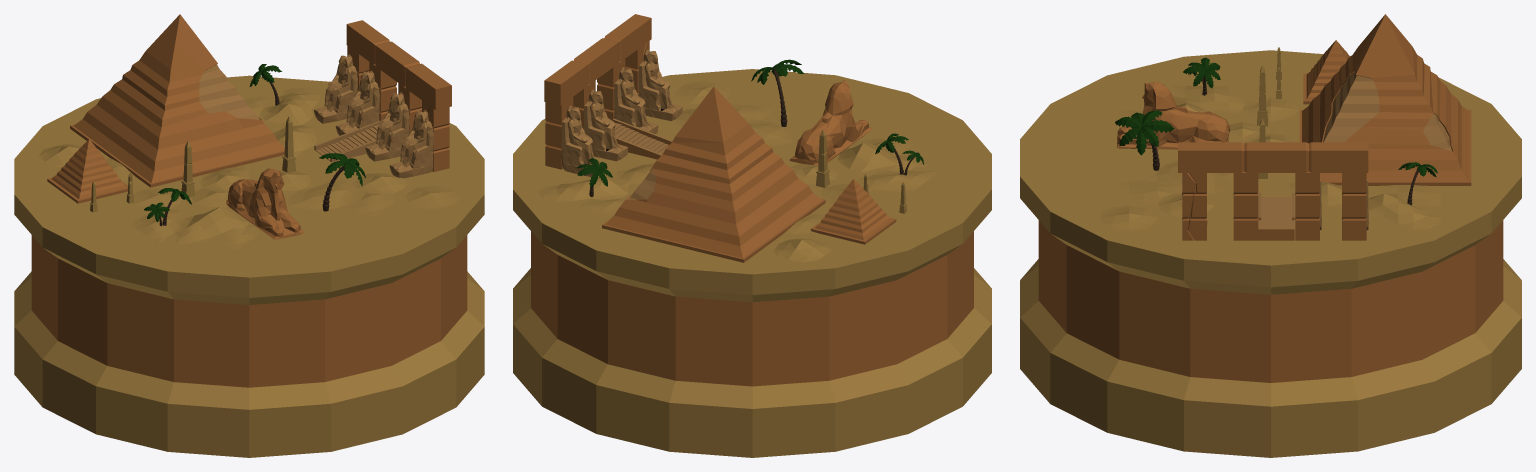
Rendered from Egypt.fbx.
3 renders of one model, left to right at view 1: azimuth 30°, elevation 25°; view 2: azimuth 150°, elevation 25°; view 3: azimuth 270°, elevation 25°, orthographic. The views are drawn at different scales.
Visible parts, largest first — view 1: Egypt=base=, Big_pyramid, Statue, Sphinx, Small_pyramid, Stair, Broken_arch_pillar, Tree_big, Broken_pillar; view 2: Egypt=base=, Big_pyramid, Statue, Sphinx, Small_pyramid, Stair, Tree_big, Broken_pillar, Broken_arch_pillar; view 3: Egypt=base=, Big_pyramid, Sphinx, Broken_arch_pillar, Stair, Tree_big, Small_pyramid.
Part boxes in pixels (left/top/right/bottom): Egypt=base=: left=14, top=20, right=484, bottom=457; Big_pyramid: left=70, top=14, right=284, bottom=187; Statue: left=335, top=70, right=433, bottom=178; Sphinx: left=226, top=168, right=304, bottom=239; Small_pyramid: left=47, top=139, right=127, bottom=203; Stair: left=314, top=120, right=380, bottom=162; Broken_arch_pillar: left=422, top=100, right=449, bottom=171; Tree_big: left=319, top=153, right=365, bottom=211; Broken_pillar: left=181, top=141, right=195, bottom=197; Egypt=base=: left=513, top=14, right=991, bottom=457; Big_pyramid: left=602, top=86, right=825, bottom=262; Statue: left=584, top=49, right=682, bottom=161; Sphinx: left=789, top=80, right=872, bottom=165; Small_pyramid: left=810, top=178, right=896, bottom=244; Stair: left=612, top=118, right=672, bottom=159; Tree_big: left=751, top=59, right=804, bottom=126; Broken_pillar: left=815, top=129, right=829, bottom=187; Broken_arch_pillar: left=625, top=41, right=649, bottom=95; Egypt=base=: left=1020, top=47, right=1521, bottom=457; Big_pyramid: left=1299, top=14, right=1471, bottom=185; Sphinx: left=1117, top=81, right=1230, bottom=149; Broken_arch_pillar: left=1182, top=173, right=1206, bottom=240; Stair: left=1258, top=192, right=1294, bottom=240; Tree_big: left=1115, top=110, right=1174, bottom=170; Small_pyramid: left=1303, top=40, right=1350, bottom=104.
Bounding box in the file's own units: 120 × 85.26 × 118.
